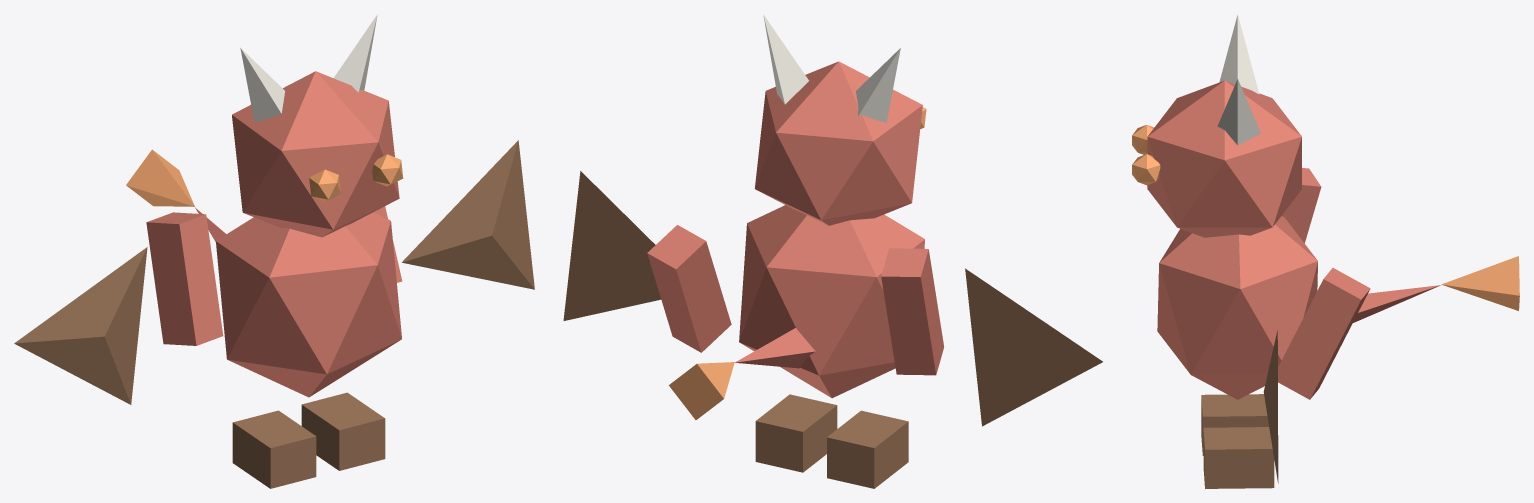
The model's file is npcpose_imp_idle_06.glb.
The picture shows the model from 3 angles, left to right: view 1: azimuth 30°, elevation 25°; view 2: azimuth 150°, elevation 25°; view 3: azimuth 270°, elevation 25°; orthographic projection. The views are drawn at different scales.
Visible parts, largest first — view 1: npcpose; view 2: npcpose; view 3: npcpose.
Part boxes in pixels (x1,y1,x2,y2): npcpose: [14, 14, 534, 488]; npcpose: [563, 14, 1102, 488]; npcpose: [1132, 14, 1519, 488].
Bounding box in the file's own units: 1.36 × 1.06 × 0.8956.
